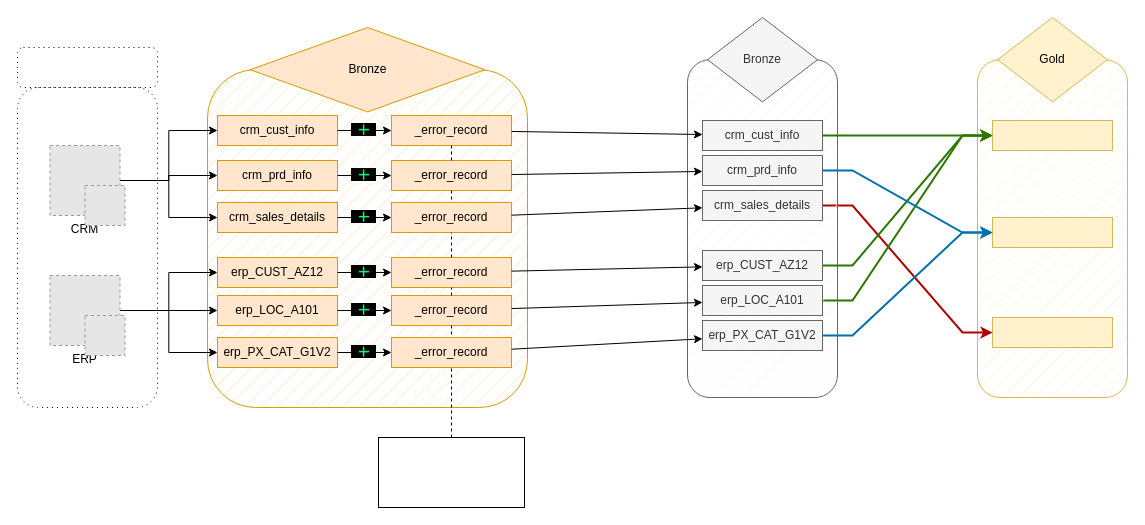
Some shapes in this 1145 by 525 pixel diagram are drawn without their labels. Grey dashed boxes stand in for pictures. Each missing label, with the centre of its shape:
An additional column for errors detected in the columns during data import.: the point at 451,472
dim_customers: the point at 1052,135
dim_products: the point at 1052,232
fact_sales: the point at 1052,332
Sources: the point at 87,67
